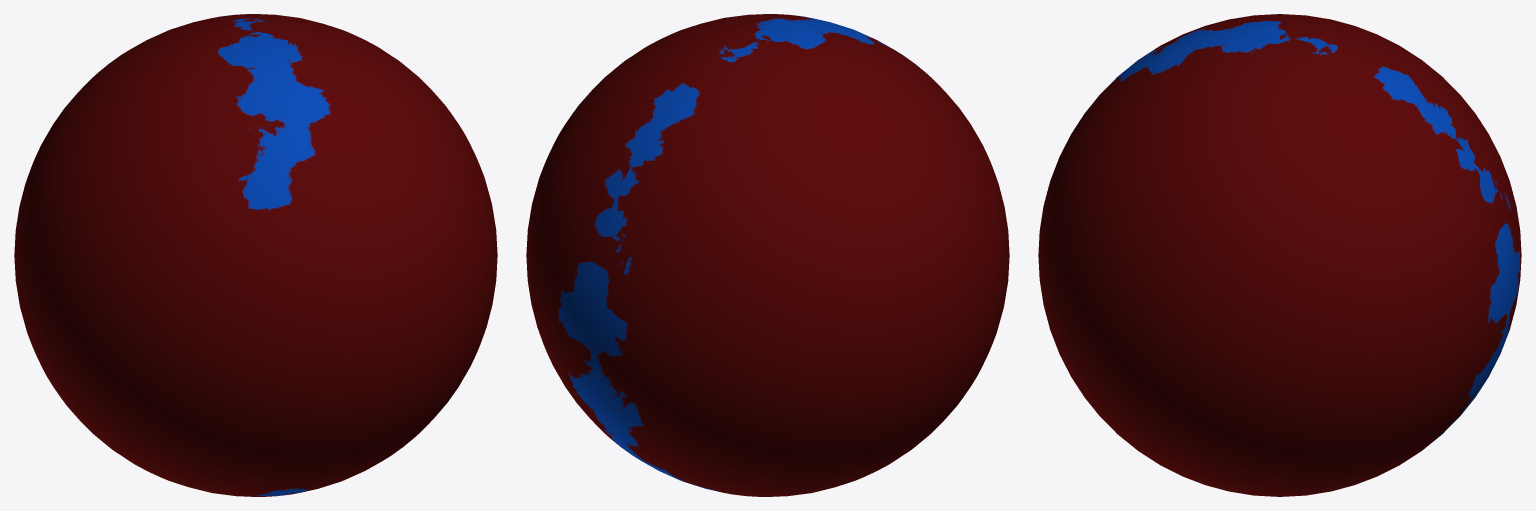
File: Burnham.gltf
3 renders of one model, left to right at view 1: azimuth 30°, elevation 25°; view 2: azimuth 150°, elevation 25°; view 3: azimuth 270°, elevation 25°, orthographic.
Visible parts, largest first — view 1: Burnham; view 2: Burnham; view 3: Burnham.
Part boxes in pixels (x1,y1,x2,y2): Burnham: (14,14,497,496); Burnham: (526,14,1009,496); Burnham: (1038,14,1521,496).
Bounding box in the file's own units: 1 × 1 × 1.
1 material, 1 textured.
